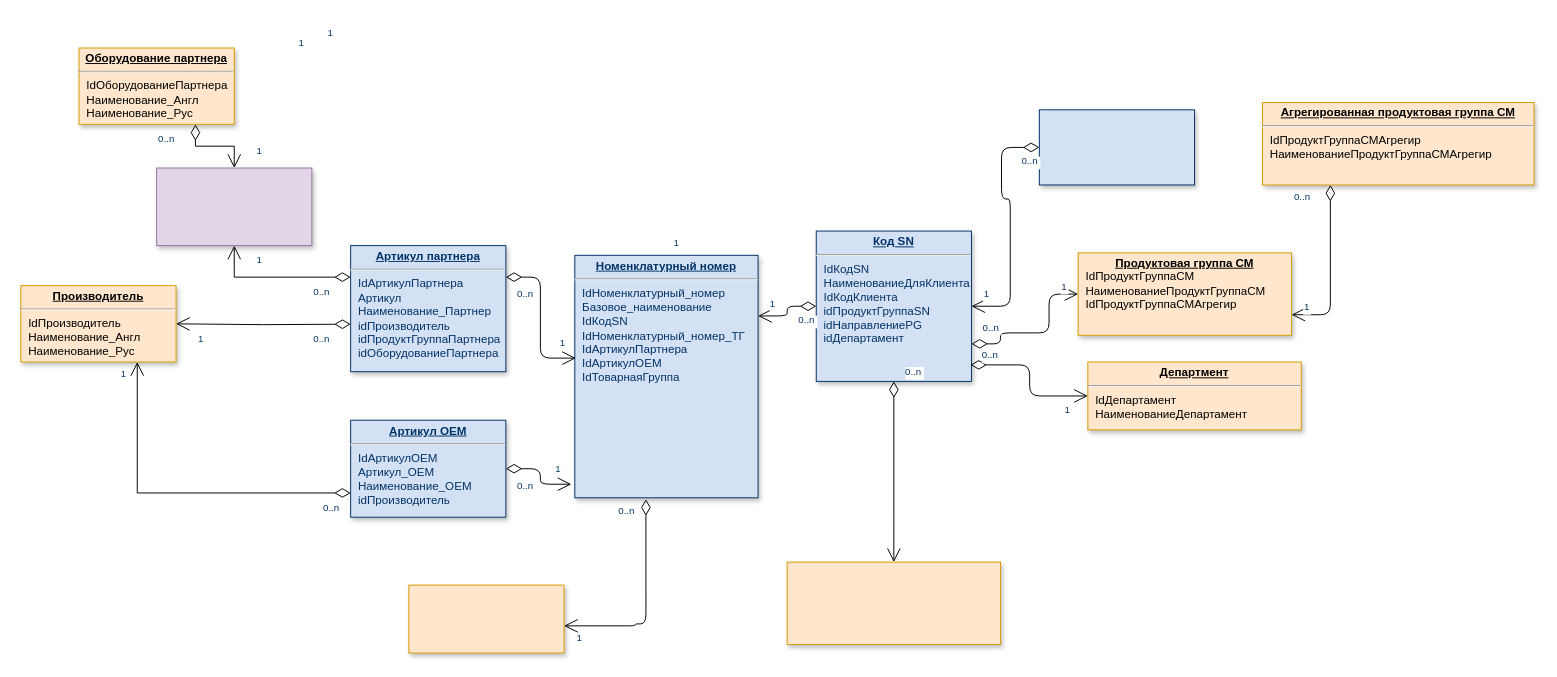
The diagram is 1557 pixels wide and 677 high, and some of its shapes have lost their labels. Each missing label, with the centre of its shape:
Код Клиента IdКодКлиента НаименованиеУКлиента: point 1117,148
Направление PG IdНаправлениеPG НаименованиеНаправлениеPG: point 894,604
Оборудование-Артикул IdАртикулПартнера IdОборудованиеПартнера: point 235,207
Товарная группа IdТоварнаяГруппа Наименование_Рус: point 487,620
